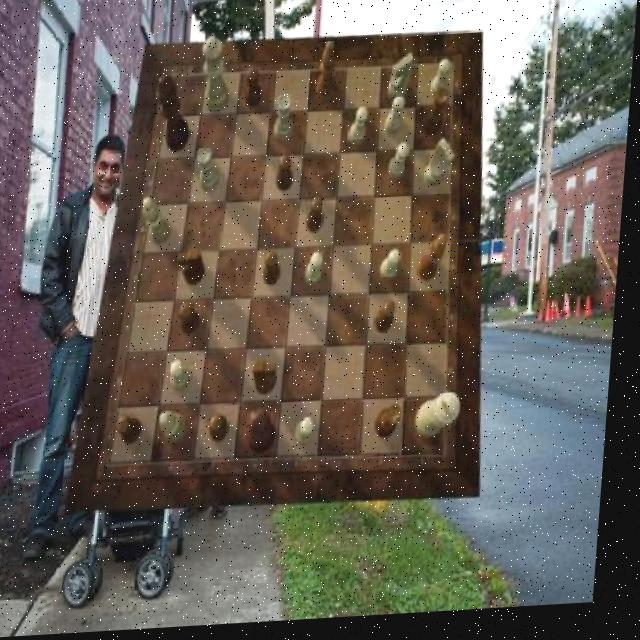bishop: (421, 240, 451, 287), (317, 44, 338, 103)
black-bishop: (154, 74, 195, 154)
black-king: (181, 251, 211, 288), (258, 364, 284, 400)
black-knight: (123, 416, 149, 447), (245, 71, 265, 110), (183, 305, 206, 338), (379, 305, 401, 339), (277, 158, 296, 195), (266, 255, 286, 290), (309, 201, 329, 236), (213, 417, 235, 446)
black-pawn: (253, 412, 283, 459)
black-queen: (425, 93, 452, 140), (381, 409, 409, 444)
black-rook: (144, 199, 175, 248), (164, 413, 194, 446)
white-bishop: (421, 395, 468, 443)
white-king: (426, 144, 458, 193), (389, 58, 416, 106)
white-knight: (385, 100, 407, 140), (432, 65, 452, 106), (390, 148, 412, 185), (351, 112, 371, 151), (384, 254, 406, 286), (309, 256, 329, 291), (174, 362, 195, 394), (301, 423, 322, 451)
white-pawn: (200, 37, 234, 116)
white-queen: (197, 147, 223, 194), (276, 98, 298, 145)
